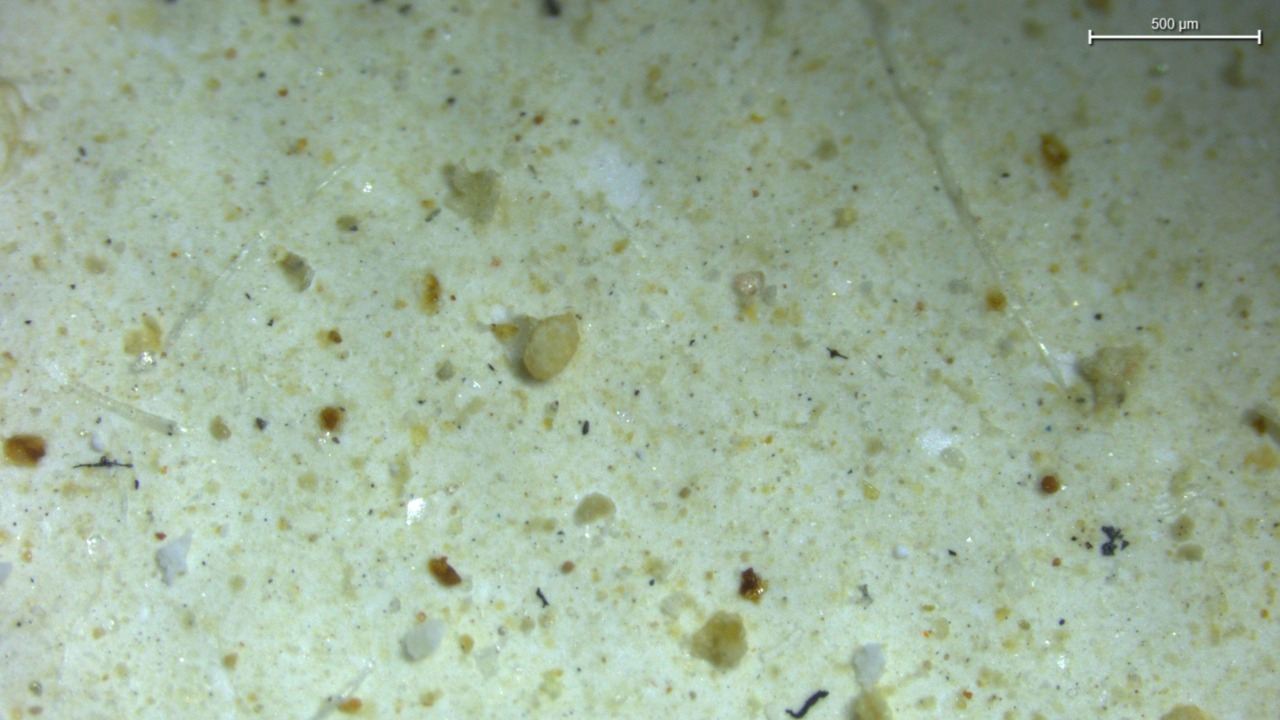microplastic_fragment: (523, 314, 580, 380), (443, 164, 500, 224), (401, 619, 445, 661), (155, 535, 191, 585), (851, 643, 884, 688)
